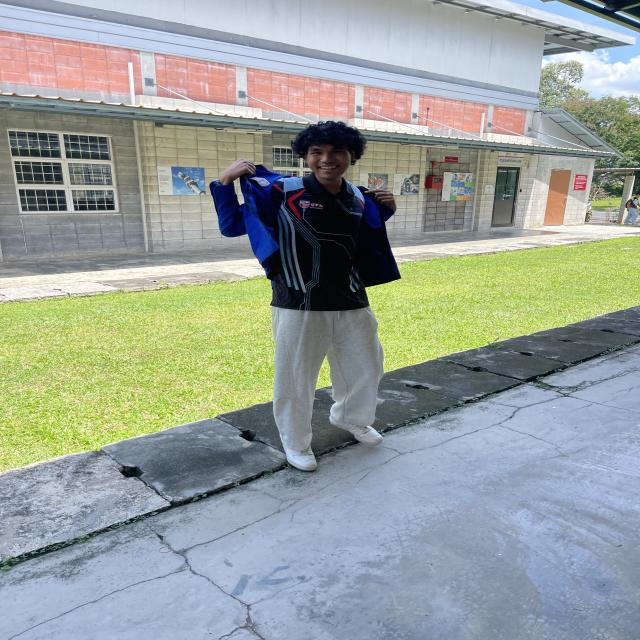person_without_labcoat: (212, 121, 400, 471)
